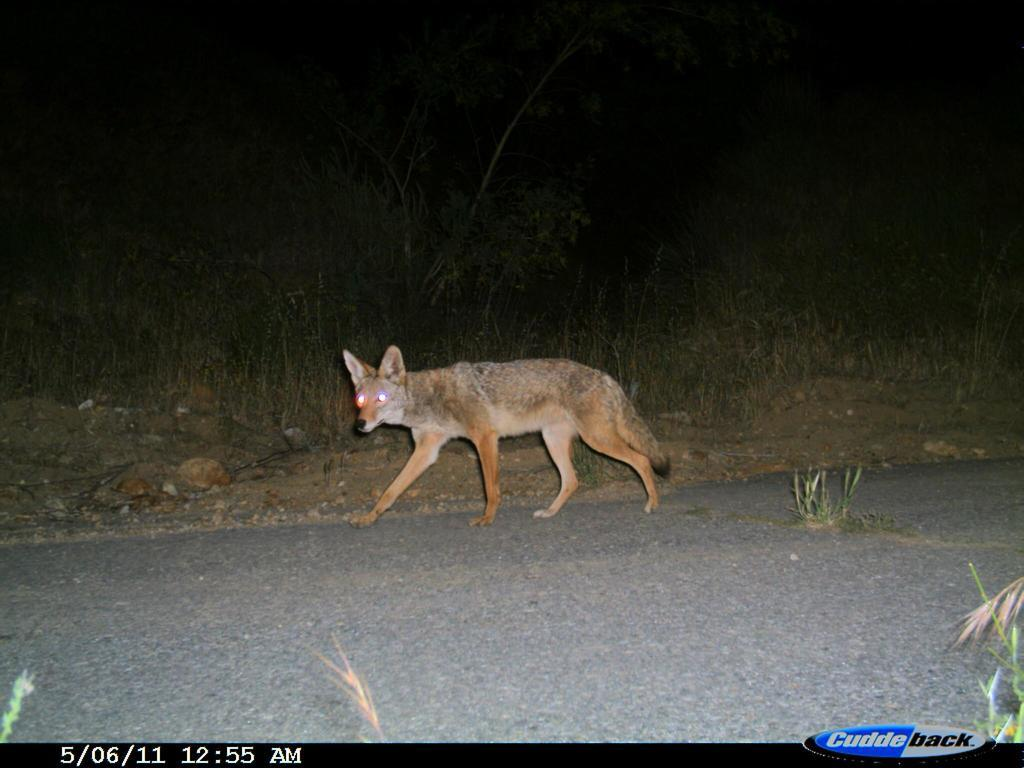coyote: (326, 340, 689, 534)
